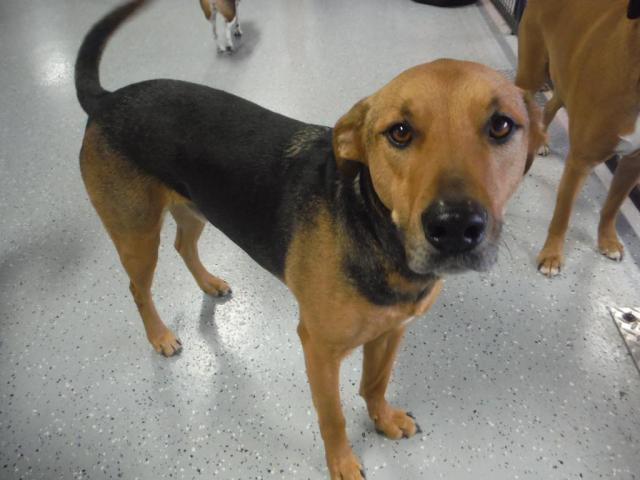Dog: (72, 0, 548, 480), (413, 0, 640, 278), (199, 0, 244, 56)
